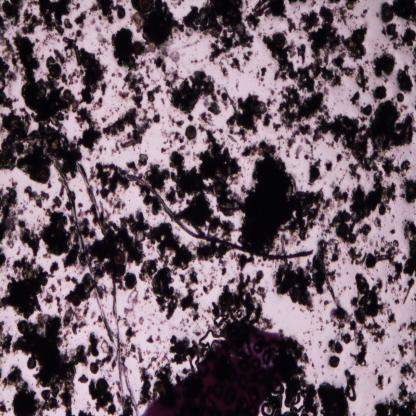Background material: (238, 140, 322, 253), (321, 97, 416, 182), (12, 318, 86, 413), (0, 107, 83, 180), (181, 0, 254, 75), (14, 34, 67, 126), (298, 7, 356, 87), (270, 87, 328, 157), (213, 270, 274, 330), (62, 31, 107, 109), (202, 130, 243, 211), (262, 34, 315, 94), (0, 257, 50, 316), (131, 0, 181, 56), (0, 363, 49, 415), (147, 221, 198, 270), (184, 193, 238, 239), (354, 272, 388, 343), (41, 211, 80, 267), (277, 259, 314, 313), (168, 150, 212, 195), (112, 211, 150, 261), (222, 94, 266, 137), (102, 108, 151, 146), (90, 164, 130, 210), (165, 68, 205, 112), (351, 186, 397, 224), (150, 268, 180, 321), (373, 382, 416, 416), (316, 238, 338, 304), (112, 27, 145, 70), (377, 238, 405, 288), (0, 178, 19, 248), (247, 0, 288, 31), (38, 0, 74, 34), (0, 10, 19, 74), (76, 104, 102, 150), (312, 190, 336, 238), (88, 237, 113, 282), (318, 381, 350, 415), (166, 334, 200, 364), (0, 57, 19, 109), (154, 47, 178, 88), (124, 72, 149, 109), (65, 275, 93, 307), (18, 219, 42, 256), (403, 219, 416, 284), (90, 341, 114, 374), (382, 25, 416, 48), (139, 189, 163, 219), (373, 51, 397, 81), (89, 0, 116, 26), (154, 362, 173, 398), (180, 288, 200, 322), (0, 0, 23, 29), (146, 163, 169, 191), (393, 0, 416, 28), (138, 367, 154, 407), (160, 131, 185, 155), (22, 8, 44, 35), (194, 242, 231, 258), (24, 185, 49, 208), (329, 183, 350, 210), (301, 382, 317, 415), (332, 306, 354, 330), (397, 63, 413, 95), (355, 65, 372, 94), (346, 247, 366, 271), (0, 321, 13, 357), (328, 209, 351, 229), (344, 369, 358, 401), (334, 5, 350, 32), (395, 339, 416, 359), (308, 161, 324, 187), (96, 394, 116, 414), (80, 216, 96, 241), (139, 260, 158, 281), (203, 95, 222, 116), (352, 343, 368, 367), (123, 319, 139, 343), (399, 360, 416, 381), (179, 270, 198, 288), (402, 279, 416, 303), (347, 161, 362, 183), (88, 333, 101, 358), (146, 84, 163, 103), (52, 49, 69, 67), (67, 67, 83, 86), (195, 114, 215, 129), (327, 338, 343, 356), (235, 254, 254, 269), (372, 82, 387, 100), (357, 223, 371, 242), (74, 11, 88, 30), (351, 44, 367, 60), (398, 322, 416, 336), (166, 186, 178, 206), (295, 45, 307, 63), (88, 377, 97, 401), (128, 288, 139, 307), (98, 284, 109, 302), (387, 305, 396, 327), (168, 116, 184, 128), (125, 344, 137, 360), (50, 194, 62, 209), (350, 90, 361, 106), (256, 67, 267, 83), (43, 290, 54, 306), (84, 204, 96, 218), (136, 153, 148, 167), (360, 104, 374, 116), (219, 258, 228, 276), (0, 253, 10, 269), (49, 261, 60, 275), (345, 0, 359, 11), (202, 280, 213, 294), (263, 113, 273, 128), (288, 18, 298, 33), (324, 159, 334, 173), (123, 306, 134, 318), (64, 276, 77, 286), (376, 374, 384, 390), (111, 354, 119, 370), (55, 295, 61, 316), (63, 19, 74, 30), (334, 152, 344, 164), (92, 316, 104, 326), (70, 323, 79, 336), (119, 89, 129, 100), (78, 374, 89, 384), (0, 399, 7, 414), (296, 146, 304, 159), (152, 114, 162, 124), (155, 334, 163, 346), (58, 186, 66, 197), (146, 333, 154, 344), (308, 0, 318, 8), (274, 121, 280, 132), (65, 202, 72, 211), (50, 285, 57, 293), (74, 2, 80, 11), (57, 278, 62, 287), (78, 202, 83, 210), (188, 114, 193, 121)
Cellulose filter fibre: (50, 157, 139, 415), (76, 164, 126, 414)
Diatom: (96, 376, 109, 396), (124, 272, 137, 290), (36, 168, 50, 184), (138, 0, 154, 14), (381, 5, 394, 22), (404, 182, 416, 200), (112, 249, 125, 265), (353, 28, 365, 45), (49, 63, 62, 78), (17, 319, 29, 334), (186, 124, 197, 140), (337, 224, 349, 238), (274, 33, 285, 48), (366, 253, 376, 269), (26, 356, 37, 370), (329, 354, 340, 367), (214, 181, 224, 195), (203, 80, 214, 92), (346, 39, 356, 52), (116, 6, 125, 19), (65, 309, 74, 321), (343, 332, 352, 344), (127, 56, 136, 68), (64, 89, 72, 99), (396, 92, 404, 102), (349, 232, 357, 242)
Microfibre: (129, 175, 313, 258)
Pen: (141, 322, 300, 414)
